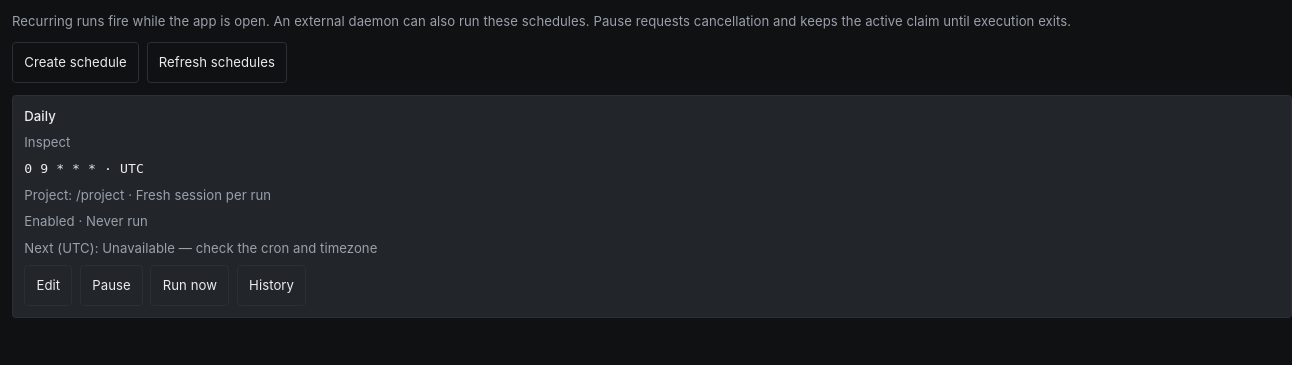
Test: reports pause failure without optimistically changing the row
Click the button with aria-label "Pause Daily": coordinates (112, 285) [80, 265, 143, 306]
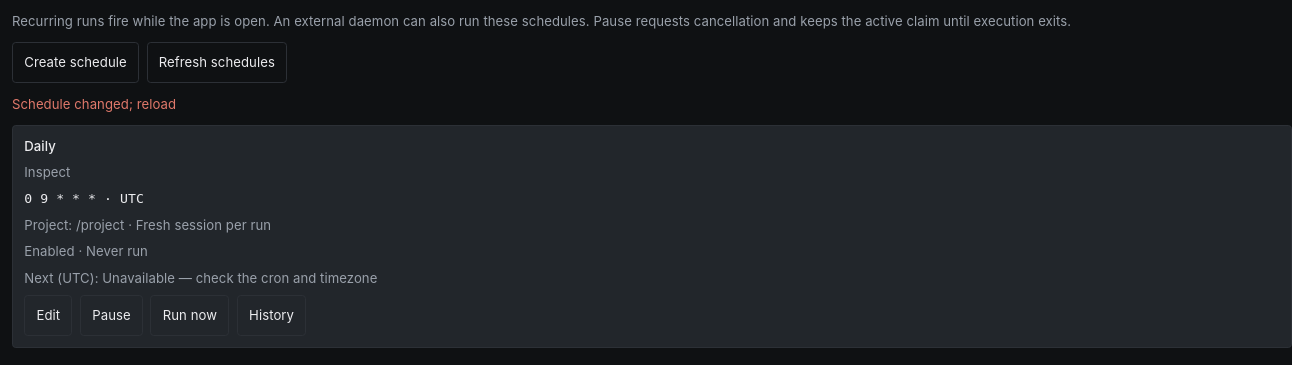
Expected: the button with aria-label "Pause Daily" is shown, [80, 295, 143, 336]
Expected: the message shows "reload", [12, 96, 176, 112]
